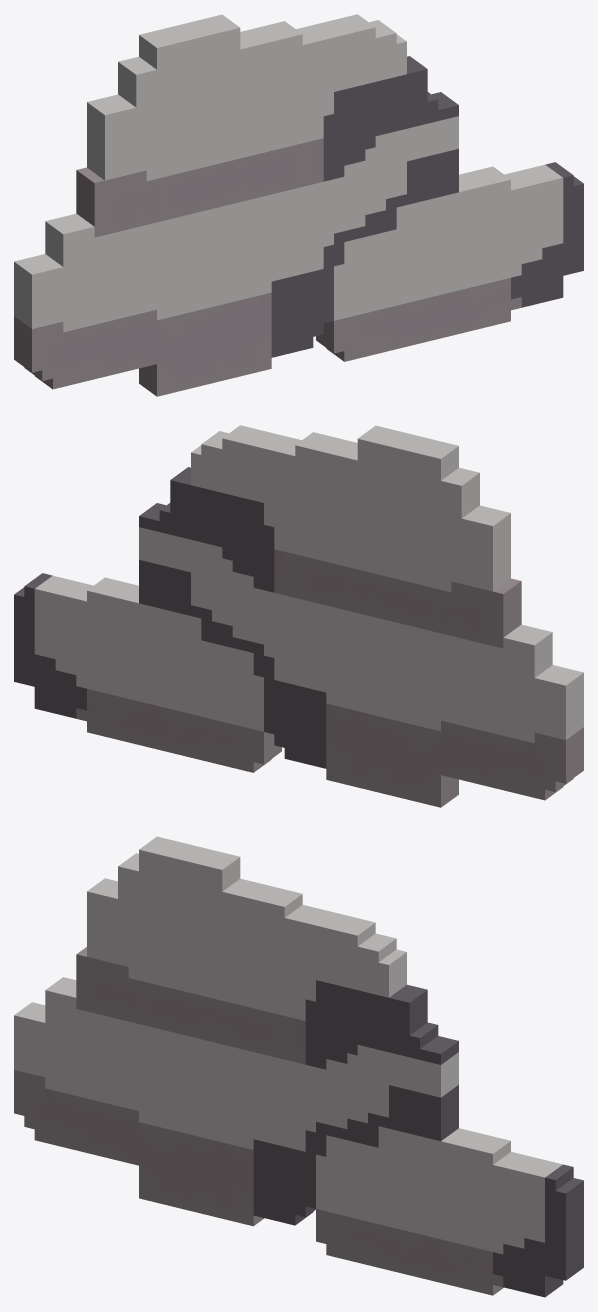
The model's file is Caillou2.obj.
The picture shows the model from 3 angles, top to bottom: view 1: azimuth 30°, elevation 25°; view 2: azimuth 150°, elevation 25°; view 3: azimuth 330°, elevation 25°; orthographic projection.
Bounding box in the file's own units: 5.3 × 3.3 × 0.3.
1 material, 1 textured.
